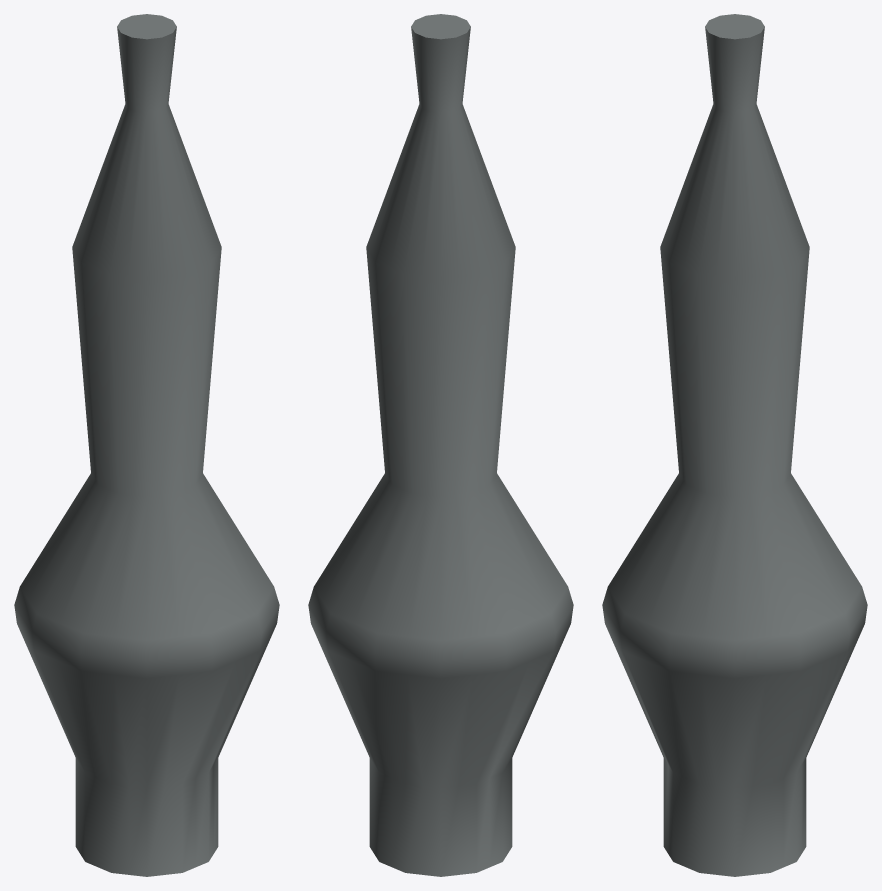
Rendered from nozel.fbx.
3 renders of one model, left to right at view 1: azimuth 30°, elevation 25°; view 2: azimuth 150°, elevation 25°; view 3: azimuth 270°, elevation 25°, orthographic.
Parts seen in each view (by area): view 1: Cylinder; view 2: Cylinder; view 3: Cylinder.
Boxes of the visible parts, x1=… form: Cylinder: x1=14, y1=14, x2=279, y2=876; Cylinder: x1=308, y1=14, x2=573, y2=876; Cylinder: x1=602, y1=14, x2=867, y2=876.
Bounding box in the file's own units: 53.97 × 184 × 53.97.
